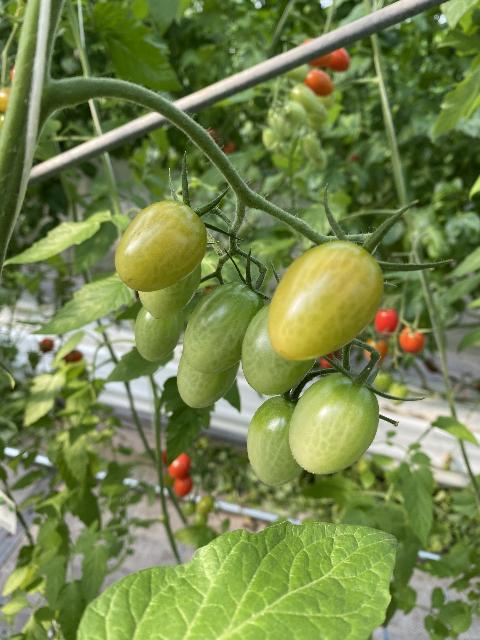l_green: (288, 373, 379, 474), (183, 281, 265, 374), (241, 301, 317, 395), (246, 395, 304, 486), (137, 261, 202, 319), (175, 353, 240, 408), (134, 305, 184, 362)
l_half_ripened: (267, 239, 385, 361), (115, 200, 207, 293)
